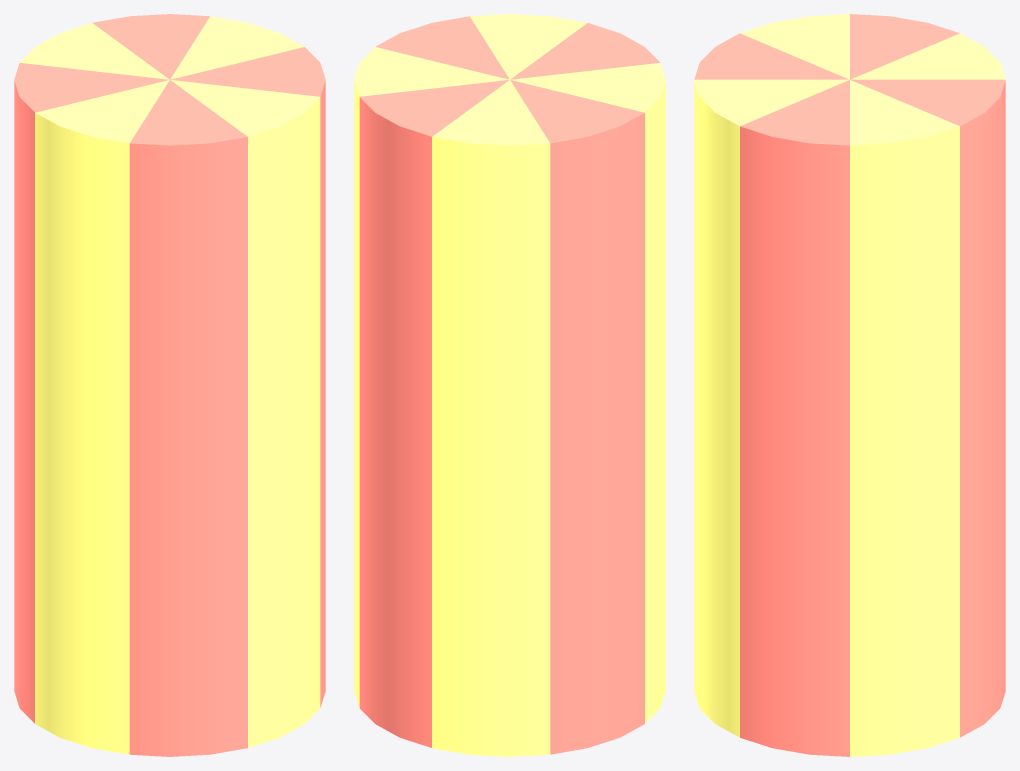
3 renders of one model, left to right at view 1: azimuth 30°, elevation 25°; view 2: azimuth 150°, elevation 25°; view 3: azimuth 270°, elevation 25°, orthographic.
Parts seen in each view (by area): view 1: model_3; view 2: model_3; view 3: model_3.
Boxes of the visible parts, bbox=[...] form: model_3: bbox=[14, 14, 325, 756]; model_3: bbox=[354, 14, 665, 756]; model_3: bbox=[694, 14, 1005, 756].
Size of the model in its own units: 0.1016 by 0.22 by 0.1016.
